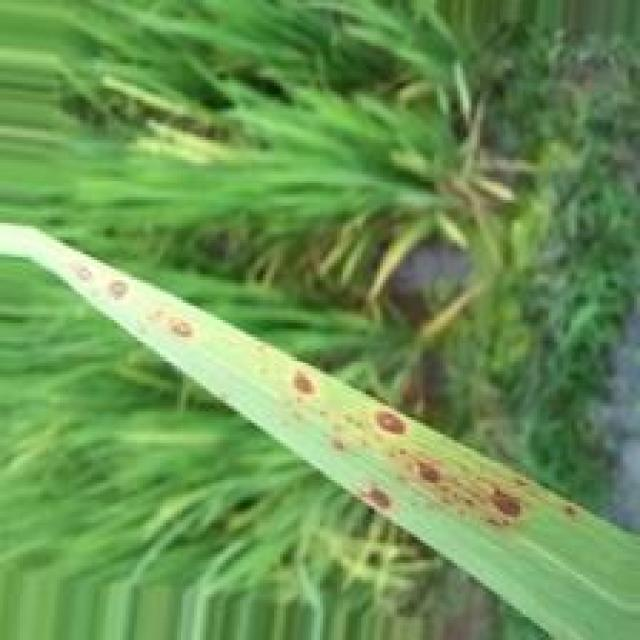Brown_Spot: (486, 489, 530, 521), (412, 455, 450, 490), (371, 408, 412, 439), (363, 480, 398, 516), (291, 366, 324, 401), (164, 315, 200, 343), (106, 279, 132, 302), (562, 500, 582, 517), (331, 435, 346, 456)
